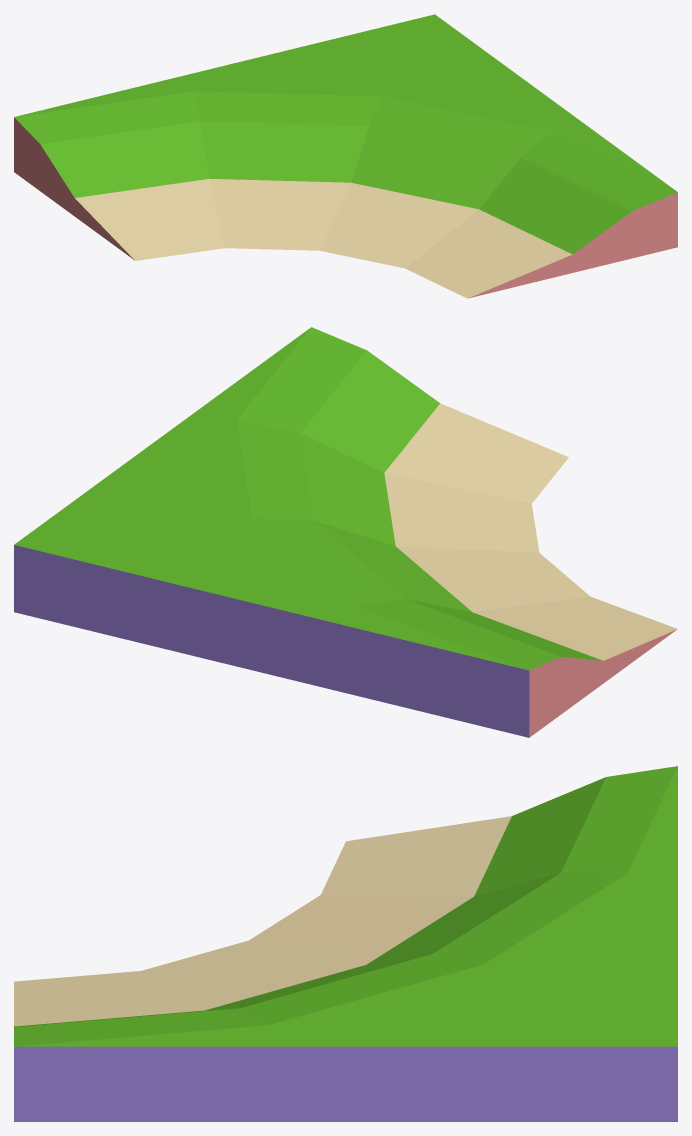
Rendered from Path_Terrain_Basic_Curve_Inner_2x2.glb.
3 renders of one model, top to bottom at view 1: azimuth 30°, elevation 25°; view 2: azimuth 150°, elevation 25°; view 3: azimuth 270°, elevation 25°, orthographic. The views are drawn at different scales.
Parts seen in each view (by area): view 1: Path_Terrain_Basic_Curve_Inner_2x2; view 2: Path_Terrain_Basic_Curve_Inner_2x2; view 3: Path_Terrain_Basic_Curve_Inner_2x2.
Boxes of the visible parts, bbox=[...] form: Path_Terrain_Basic_Curve_Inner_2x2: bbox=[14, 14, 677, 298]; Path_Terrain_Basic_Curve_Inner_2x2: bbox=[14, 327, 677, 737]; Path_Terrain_Basic_Curve_Inner_2x2: bbox=[14, 766, 677, 1121].
Bounding box in the file's own units: 200 × 25 × 200.
